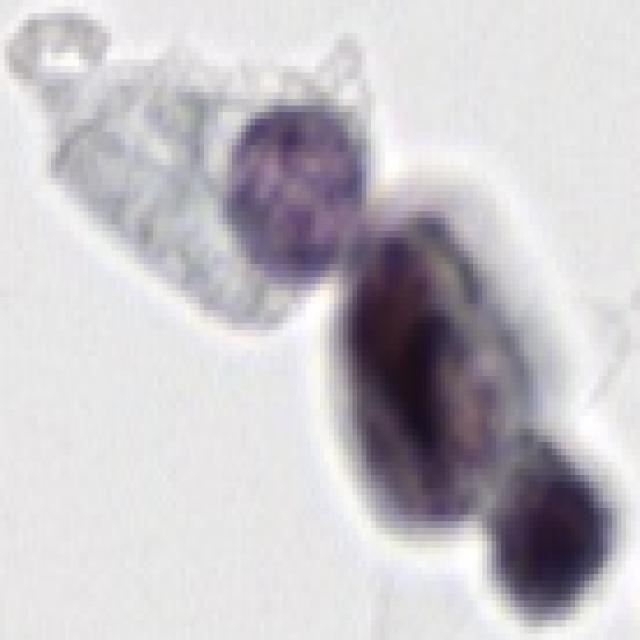cytoplasm: (266, 201, 589, 572), (1, 26, 379, 341)
nucleus: (315, 225, 525, 541), (211, 99, 375, 303)
